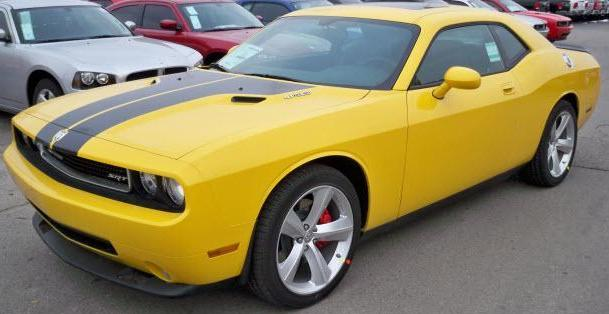front_view: (6, 117, 213, 298)
headlight: (127, 155, 199, 215)
side_glass: (399, 20, 533, 88)
